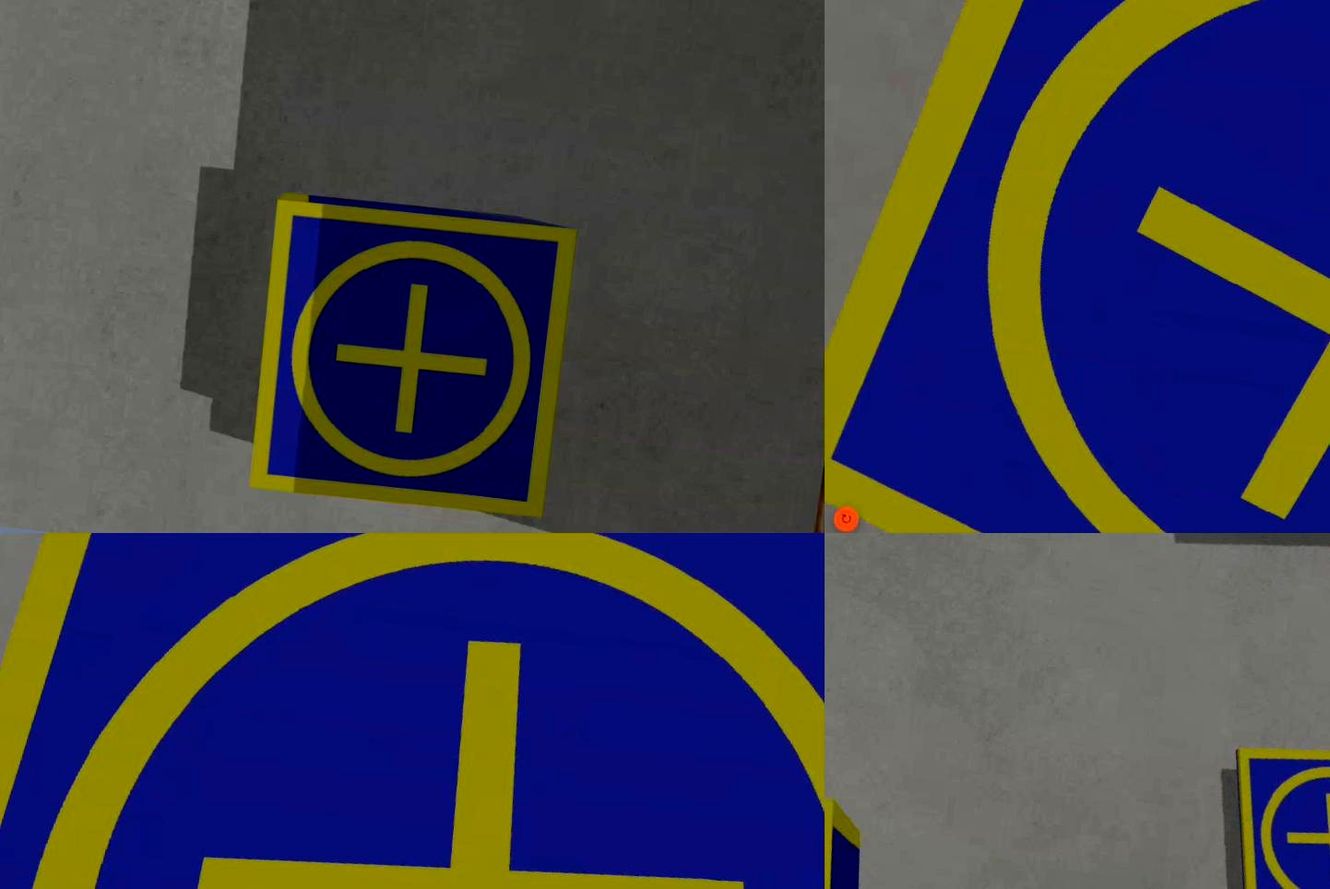small_base: (1, 534, 825, 889), (825, 1, 1330, 534), (243, 196, 580, 525), (1213, 729, 1330, 889)
